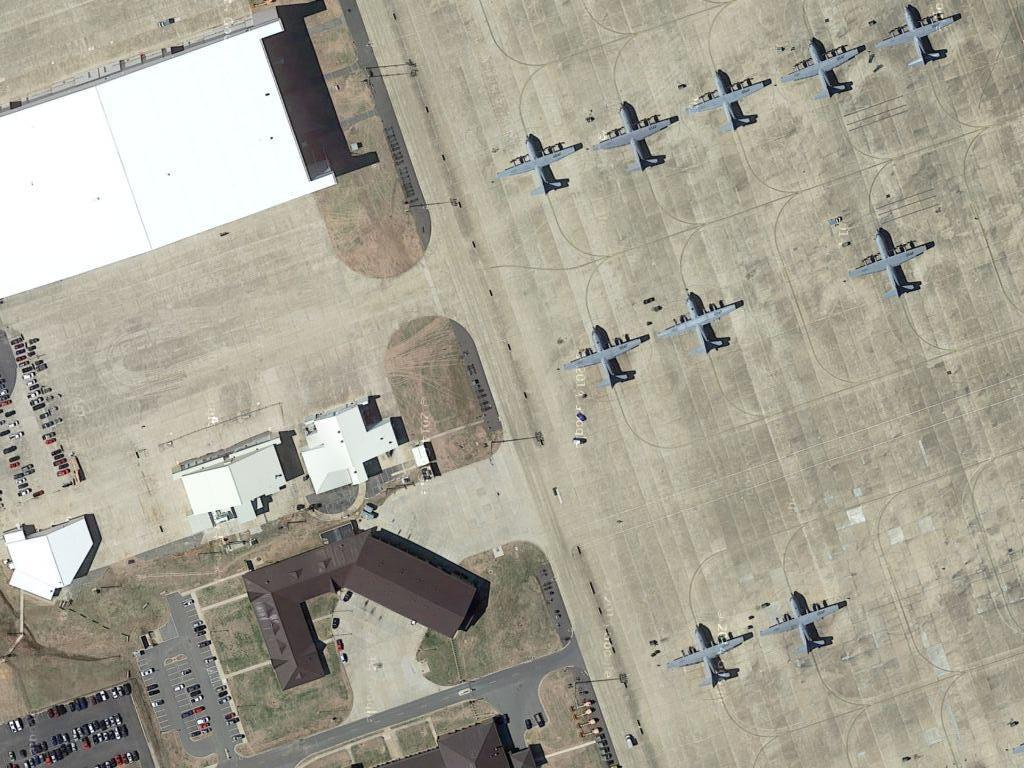C-130: (591, 94, 684, 183), (661, 619, 758, 700), (849, 226, 939, 309), (682, 61, 776, 136), (561, 322, 650, 400), (874, 2, 963, 76), (784, 32, 870, 108), (498, 130, 588, 202), (663, 289, 747, 366), (765, 592, 845, 660)
